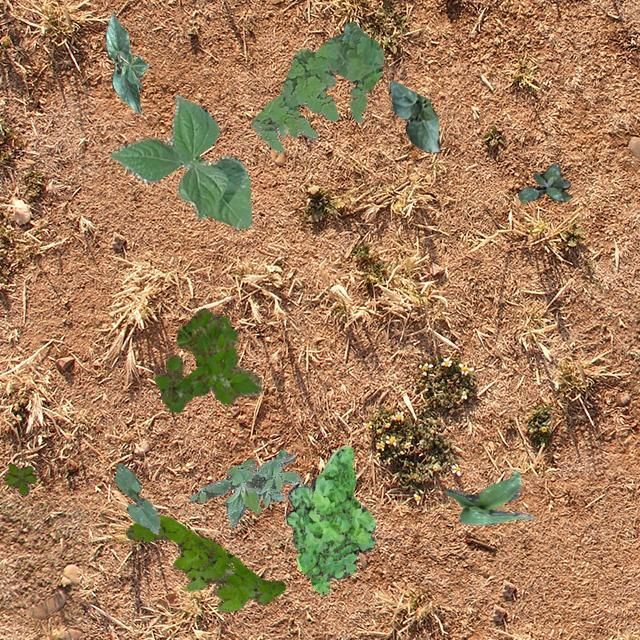crop: (110, 94, 250, 228), (444, 471, 532, 524), (104, 12, 148, 112), (388, 80, 438, 152), (114, 462, 158, 534)
weed: (250, 20, 382, 152), (124, 514, 284, 610), (284, 444, 374, 594), (154, 306, 260, 412), (188, 448, 300, 526), (516, 162, 570, 202), (3, 462, 36, 493)
